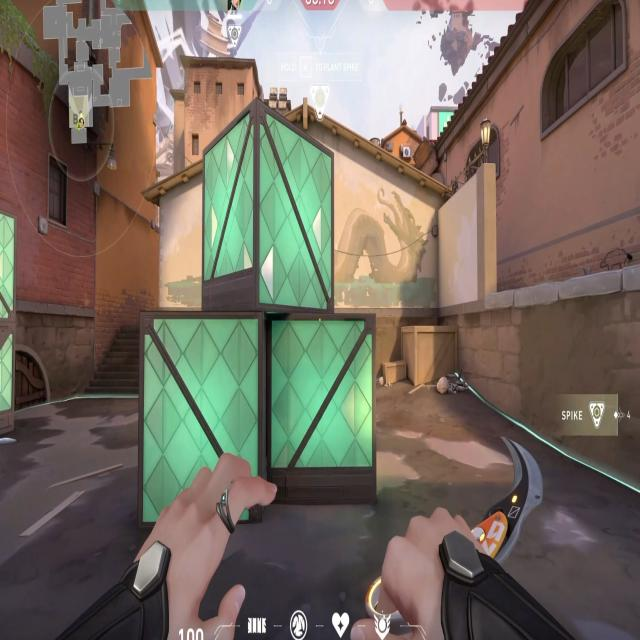B_Site_Box: (122, 79, 390, 543)
Throwables: (528, 0, 640, 149)
